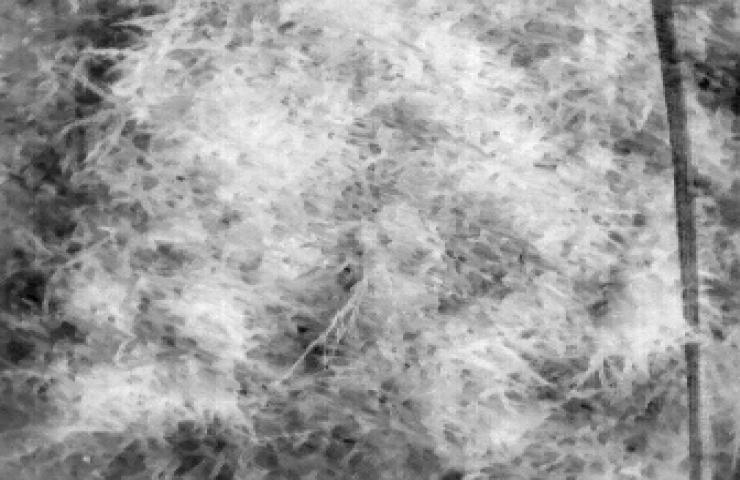landmines: (256, 238, 324, 284)
